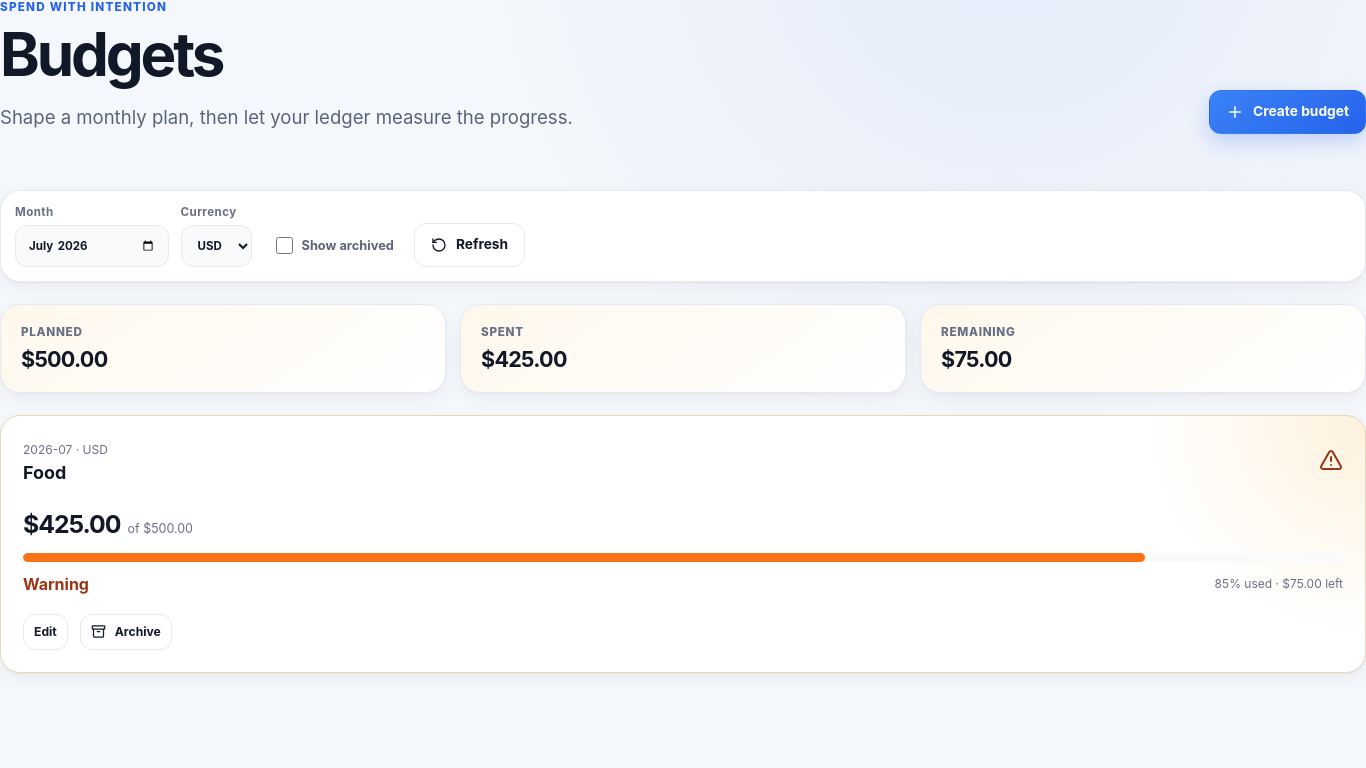
Test case: BudgetsPage › keeps failed lifecycle confirmation visible with an inline retryable alert
Check: the heading "Food" is shown, box [23,462,66,483]
Click the button with aria-label "Archive Food budget" at (126, 632), box [80,614,172,650]
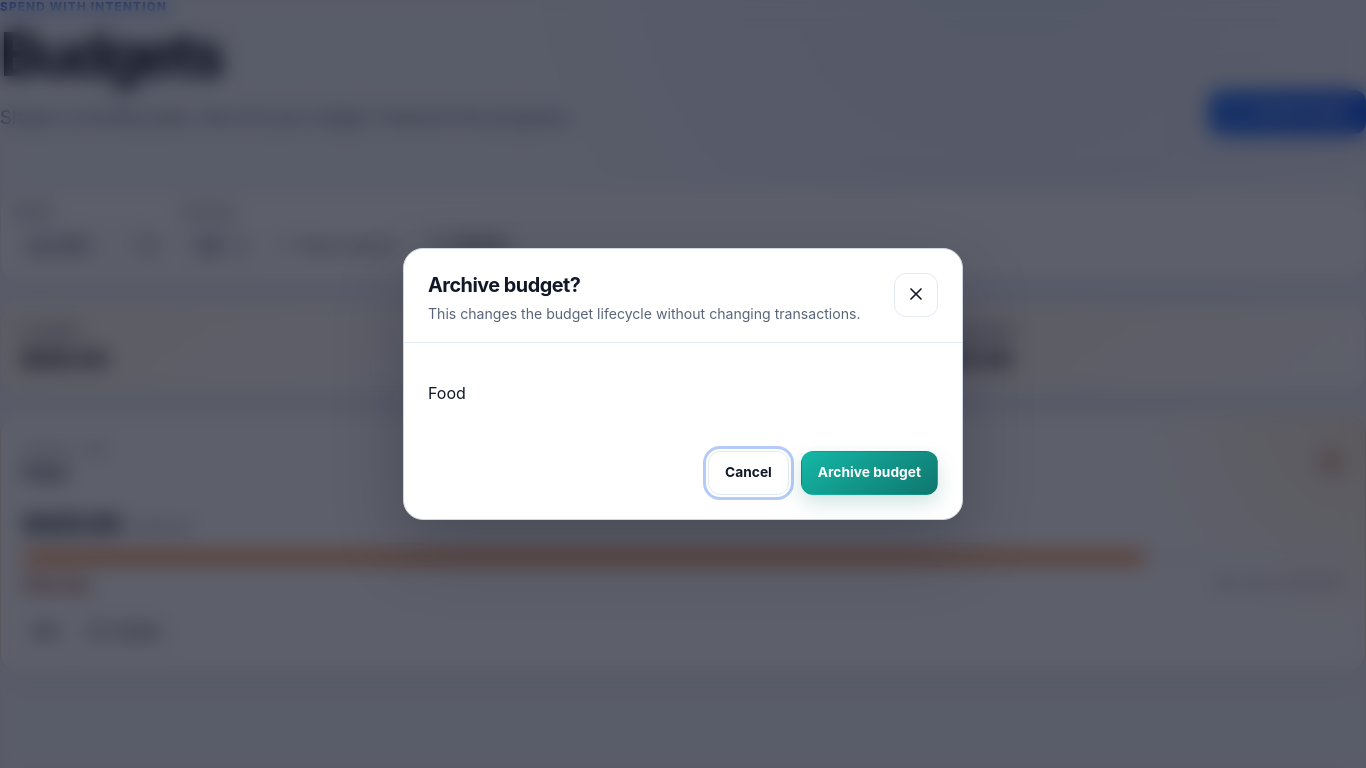
Click the button "Archive budget" at (869, 473), box [801,451,938,495]
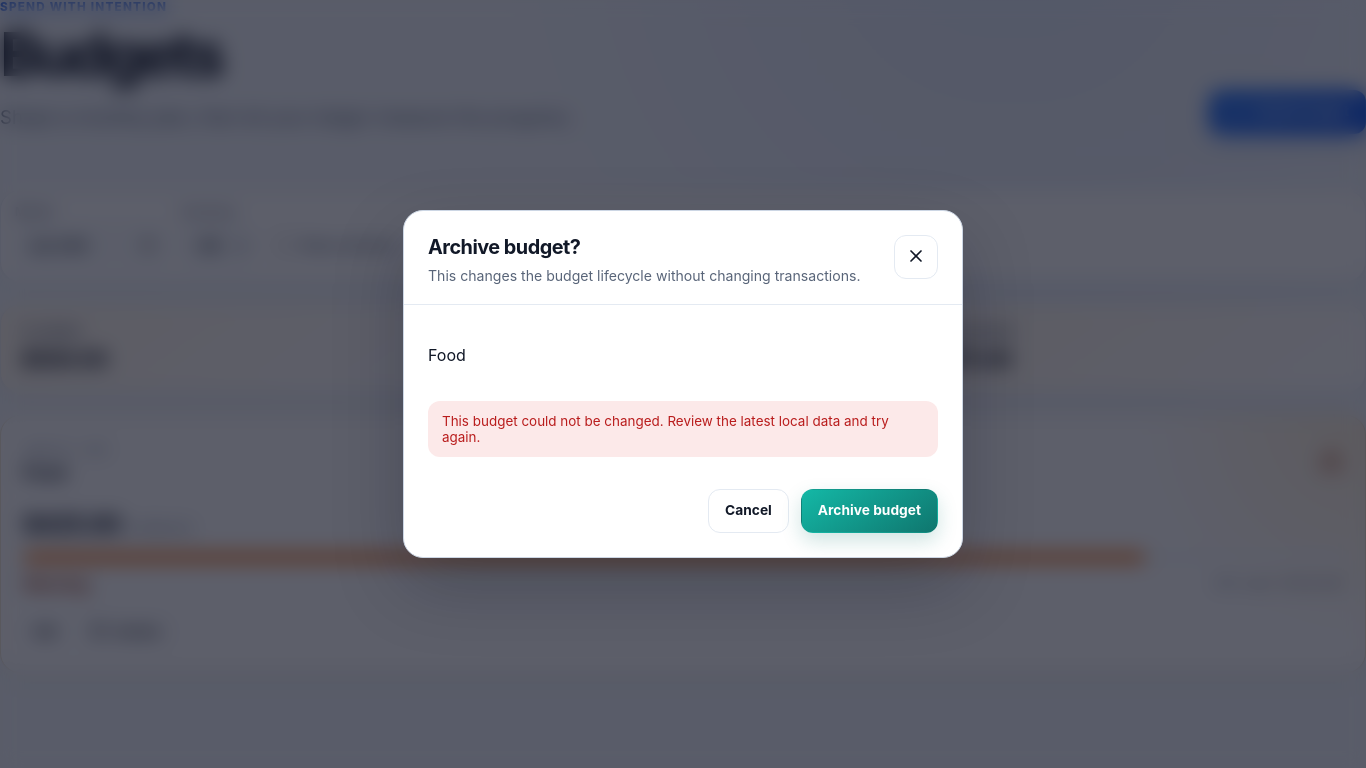
Check: the dialog "Archive budget?" is shown, box [403,210,963,558]
Check: the message shows "could not be changed", box [442,413,889,445]
Click the button "Archive budget" at (869, 511), box [801,489,938,533]
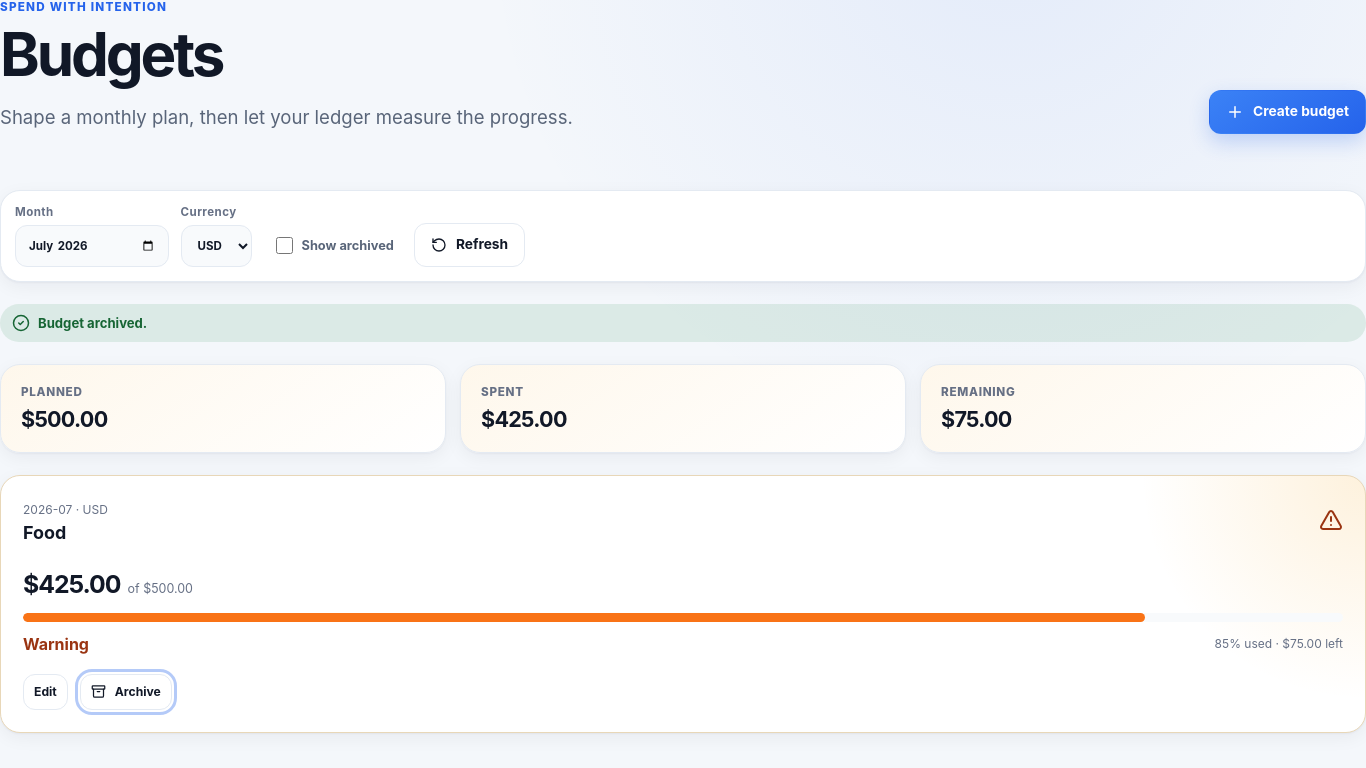
Check: the dialog is gone
